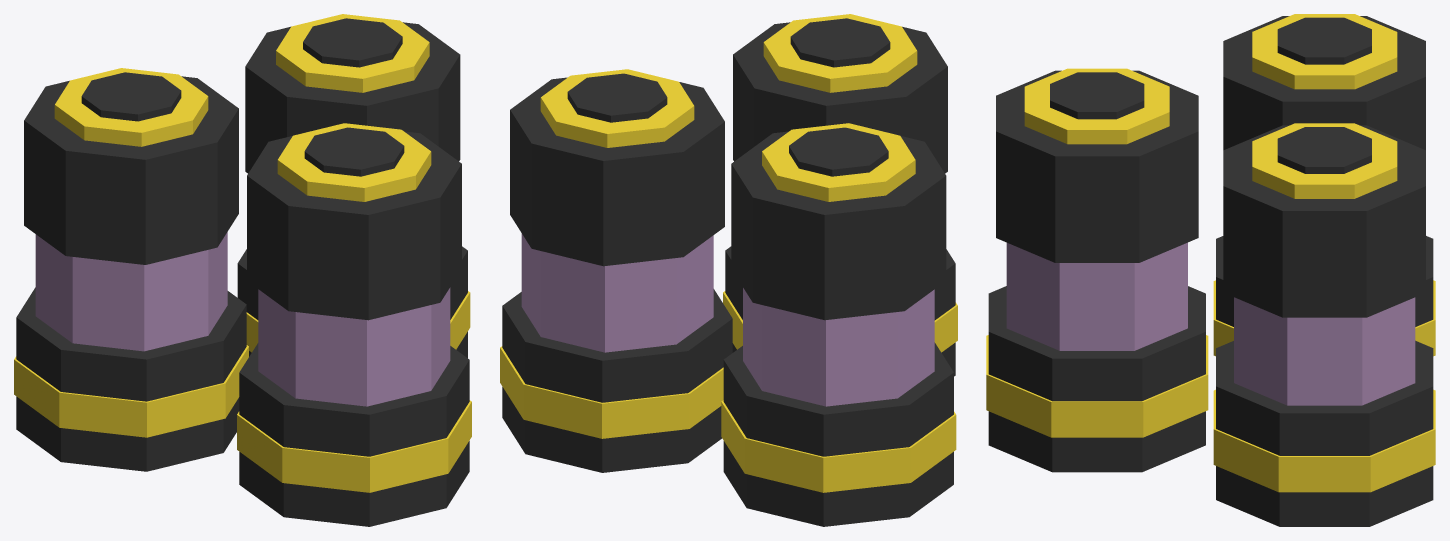
The model's file is ce_ammo_fuelcell_demo_b.obj.
3 renders of one model, left to right at view 1: azimuth 30°, elevation 25°; view 2: azimuth 150°, elevation 25°; view 3: azimuth 270°, elevation 25°, orthographic.
Visible parts, largest first — view 1: ce_ammo_fuelcell_demo_b_4, ce_ammo_fuelcell_demo_b_18, ce_ammo_fuelcell_demo_b_3, ce_ammo_fuelcell_demo_b_17, ce_ammo_fuelcell_demo_b_11, ce_ammo_fuelcell_demo_b_16, ce_ammo_fuelcell_demo_b_2, ce_ammo_fuelcell_demo_b_15, ce_ammo_fuelcell_demo_b_1, ce_ammo_fuelcell_demo_b_14, ce_ammo_fuelcell_demo_b_0, ce_ammo_fuelcell_demo_b_5 (+7 smaller); view 2: ce_ammo_fuelcell_demo_b_4, ce_ammo_fuelcell_demo_b_11, ce_ammo_fuelcell_demo_b_10, ce_ammo_fuelcell_demo_b_3, ce_ammo_fuelcell_demo_b_18, ce_ammo_fuelcell_demo_b_2, ce_ammo_fuelcell_demo_b_9, ce_ammo_fuelcell_demo_b_1, ce_ammo_fuelcell_demo_b_8, ce_ammo_fuelcell_demo_b_0, ce_ammo_fuelcell_demo_b_7, ce_ammo_fuelcell_demo_b_19 (+7 smaller); view 3: ce_ammo_fuelcell_demo_b_11, ce_ammo_fuelcell_demo_b_18, ce_ammo_fuelcell_demo_b_10, ce_ammo_fuelcell_demo_b_17, ce_ammo_fuelcell_demo_b_4, ce_ammo_fuelcell_demo_b_16, ce_ammo_fuelcell_demo_b_9, ce_ammo_fuelcell_demo_b_8, ce_ammo_fuelcell_demo_b_15, ce_ammo_fuelcell_demo_b_14, ce_ammo_fuelcell_demo_b_7, ce_ammo_fuelcell_demo_b_19 (+7 smaller).
Part boxes in pixels (box(x1,y1,x2,y2)): ce_ammo_fuelcell_demo_b_4: box(24, 76, 238, 264); ce_ammo_fuelcell_demo_b_18: box(247, 131, 461, 320); ce_ammo_fuelcell_demo_b_3: box(35, 232, 227, 351); ce_ammo_fuelcell_demo_b_17: box(258, 287, 450, 406); ce_ammo_fuelcell_demo_b_11: box(245, 22, 460, 173); ce_ammo_fuelcell_demo_b_16: box(239, 343, 469, 456); ce_ammo_fuelcell_demo_b_2: box(16, 287, 246, 401); ce_ammo_fuelcell_demo_b_15: box(237, 400, 471, 492); ce_ammo_fuelcell_demo_b_1: box(14, 345, 248, 437); ce_ammo_fuelcell_demo_b_14: box(239, 441, 469, 526); ce_ammo_fuelcell_demo_b_0: box(16, 396, 239, 471); ce_ammo_fuelcell_demo_b_5: box(54, 68, 208, 146); ce_ammo_fuelcell_demo_b_4: box(731, 131, 946, 320); ce_ammo_fuelcell_demo_b_11: box(510, 77, 724, 266); ce_ammo_fuelcell_demo_b_10: box(521, 233, 713, 352); ce_ammo_fuelcell_demo_b_3: box(743, 288, 934, 406); ce_ammo_fuelcell_demo_b_18: box(733, 22, 947, 173); ce_ammo_fuelcell_demo_b_2: box(723, 342, 953, 456); ce_ammo_fuelcell_demo_b_9: box(502, 289, 732, 402); ce_ammo_fuelcell_demo_b_1: box(721, 400, 956, 492); ce_ammo_fuelcell_demo_b_8: box(500, 346, 723, 438); ce_ammo_fuelcell_demo_b_0: box(723, 441, 953, 526); ce_ammo_fuelcell_demo_b_7: box(502, 387, 721, 472); ce_ammo_fuelcell_demo_b_19: box(763, 14, 917, 92); ce_ammo_fuelcell_demo_b_11: box(1223, 125, 1425, 317); ce_ammo_fuelcell_demo_b_18: box(996, 70, 1198, 262); ce_ammo_fuelcell_demo_b_10: box(1234, 297, 1415, 405); ce_ammo_fuelcell_demo_b_17: box(1006, 242, 1187, 350); ce_ammo_fuelcell_demo_b_4: box(1223, 16, 1425, 150); ce_ammo_fuelcell_demo_b_16: box(988, 286, 1205, 401); ce_ammo_fuelcell_demo_b_9: box(1216, 340, 1433, 455); ce_ammo_fuelcell_demo_b_8: box(1213, 389, 1435, 492); ce_ammo_fuelcell_demo_b_15: box(986, 335, 1208, 437); ce_ammo_fuelcell_demo_b_14: box(988, 411, 1205, 472); ce_ammo_fuelcell_demo_b_7: box(1216, 466, 1433, 526); ce_ammo_fuelcell_demo_b_19: box(1024, 68, 1169, 144).
Size of the model in its own units: 0.6128 by 0.47 by 0.5728.
